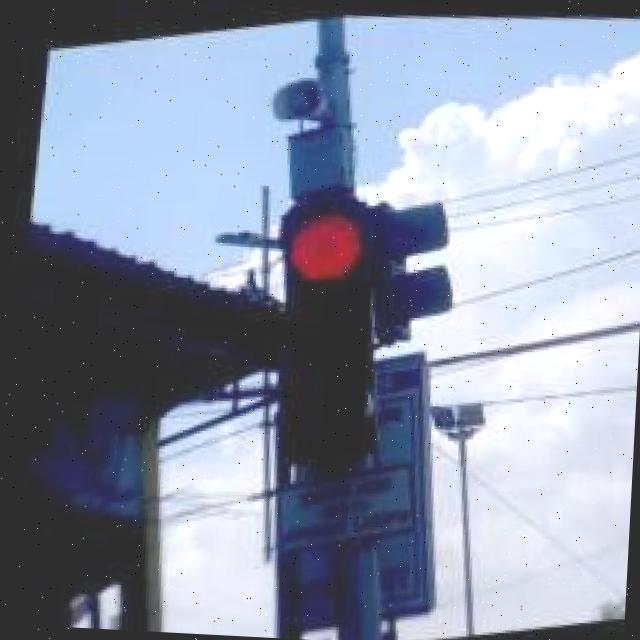red_light: (244, 178, 404, 470)
